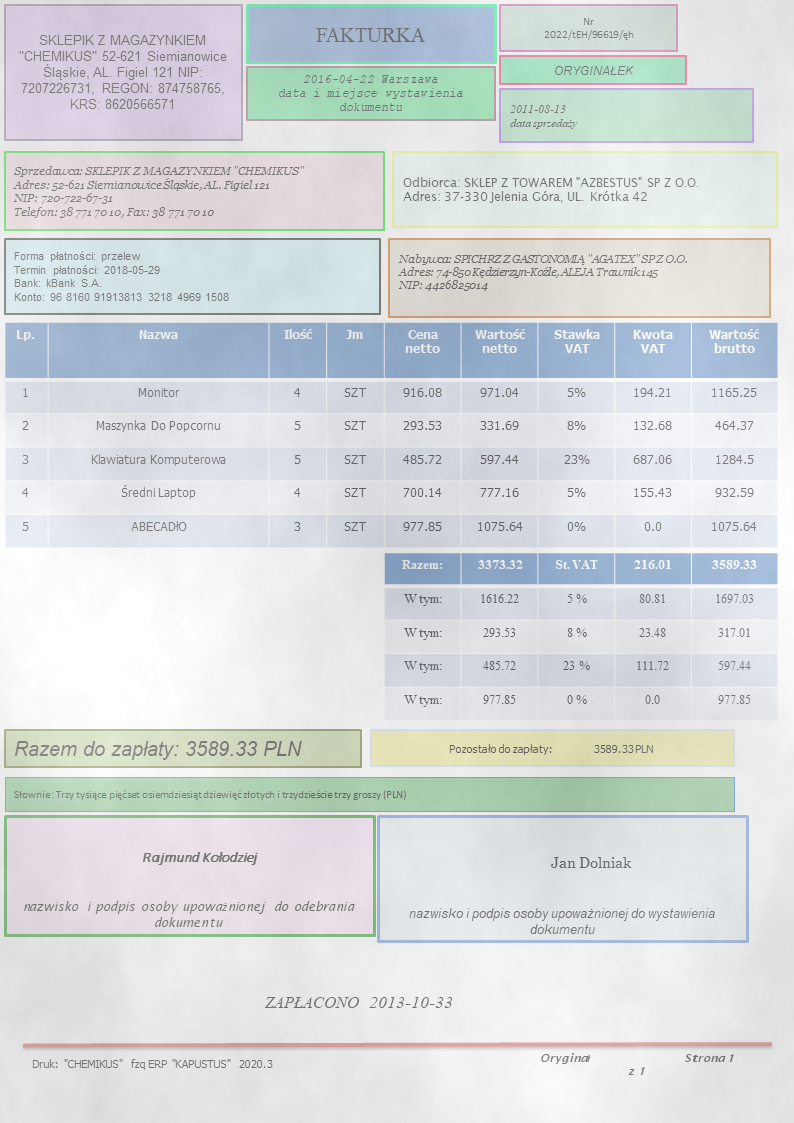Table: (3, 321, 779, 549), (383, 550, 779, 722)
TextBox: (9, 162, 309, 221), (17, 31, 230, 113), (396, 250, 690, 294), (10, 248, 230, 304), (21, 899, 356, 930), (407, 904, 716, 937), (400, 174, 701, 205), (276, 72, 466, 115), (11, 735, 305, 760), (10, 787, 408, 802), (538, 1051, 737, 1077), (30, 1055, 274, 1071), (264, 993, 453, 1012), (447, 741, 654, 756), (542, 15, 636, 43), (311, 24, 427, 46), (139, 849, 259, 867), (507, 101, 578, 131), (548, 853, 635, 873), (551, 61, 636, 78)
